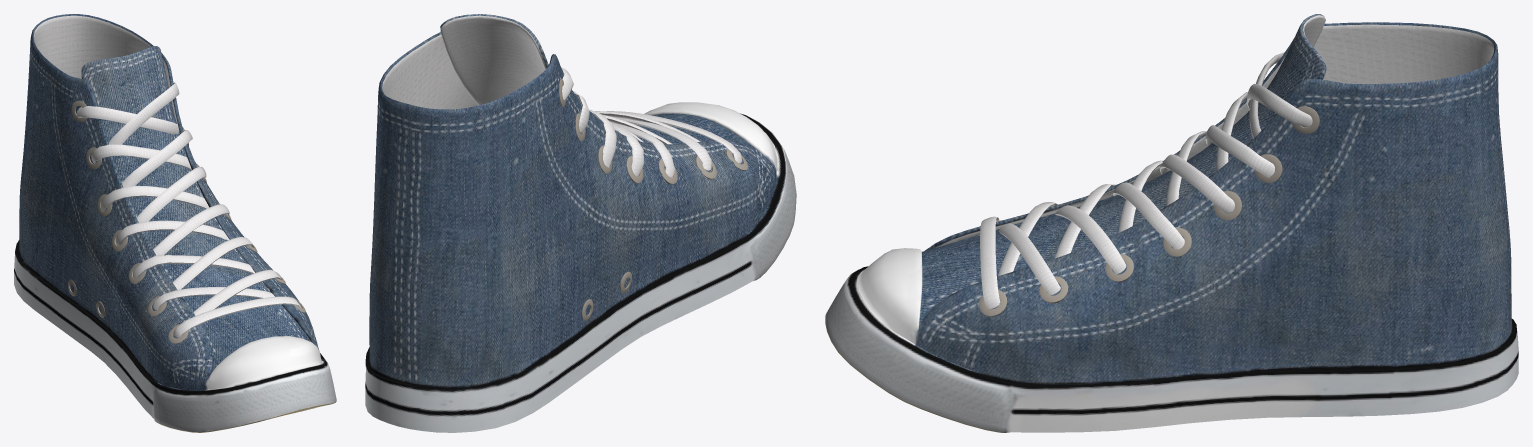
File: converse.glb
The picture shows the model from 3 angles, left to right: view 1: azimuth 30°, elevation 25°; view 2: azimuth 150°, elevation 25°; view 3: azimuth 270°, elevation 25°; orthographic projection. The views are drawn at different scales.
Parts seen in each view (by area): view 1: lConv Sneakers converse, lConv Sneakers conv_tongue, lConv Sneakers laces; view 2: lConv Sneakers converse, lConv Sneakers conv_tongue, lConv Sneakers laces; view 3: lConv Sneakers converse, lConv Sneakers laces, lConv Sneakers conv_tongue.
Boxes of the visible parts, <box> form: lConv Sneakers converse: <box>14,14,336,432</box>; lConv Sneakers conv_tongue: <box>81,46,310,373</box>; lConv Sneakers laces: <box>76,82,301,337</box>; lConv Sneakers converse: <box>365,32,796,432</box>; lConv Sneakers conv_tongue: <box>440,14,756,149</box>; lConv Sneakers laces: <box>548,64,741,177</box>; lConv Sneakers converse: <box>825,22,1518,432</box>; lConv Sneakers laces: <box>980,52,1312,308</box>; lConv Sneakers conv_tongue: <box>919,14,1326,326</box>.
Bounding box in the file's own units: 0.0934 × 0.1446 × 0.2564.
Materials: 3 (2 with a texture image).
